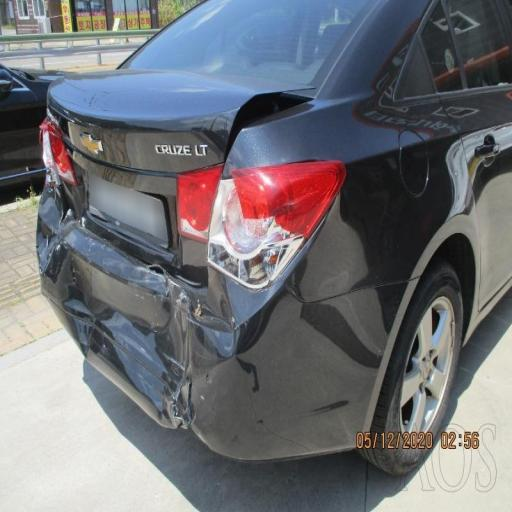broken: (128, 228, 189, 309)
dent: (48, 147, 228, 442)
scratch: (212, 132, 316, 296)
